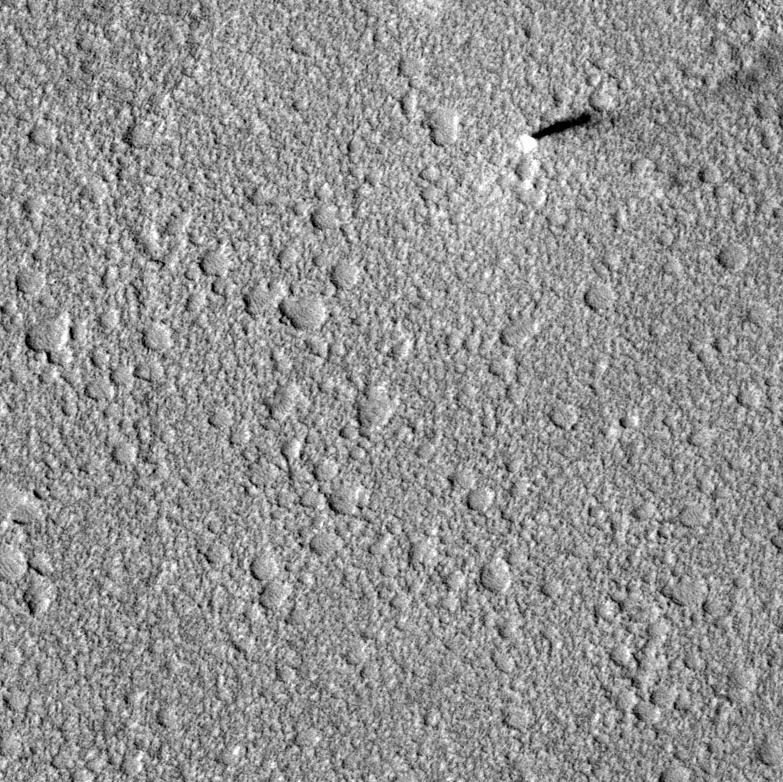dust_devil: (514, 103, 603, 154)
